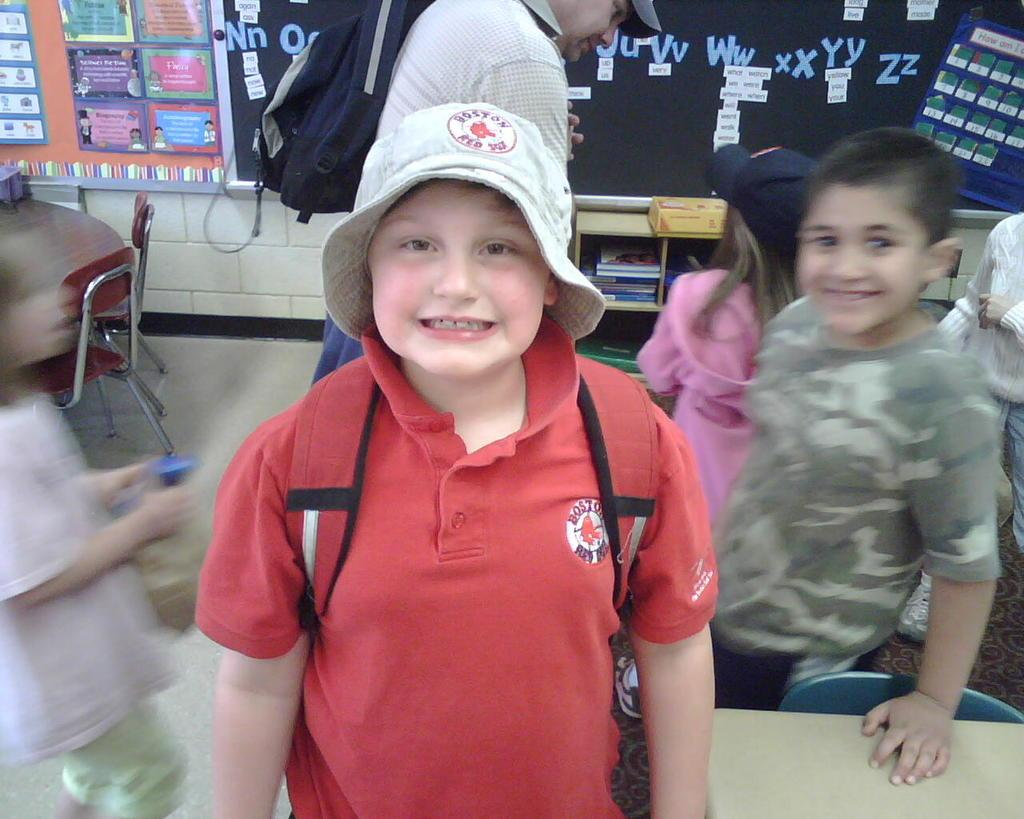Hat: (321, 99, 604, 340), (704, 142, 826, 251), (616, 0, 662, 39)
